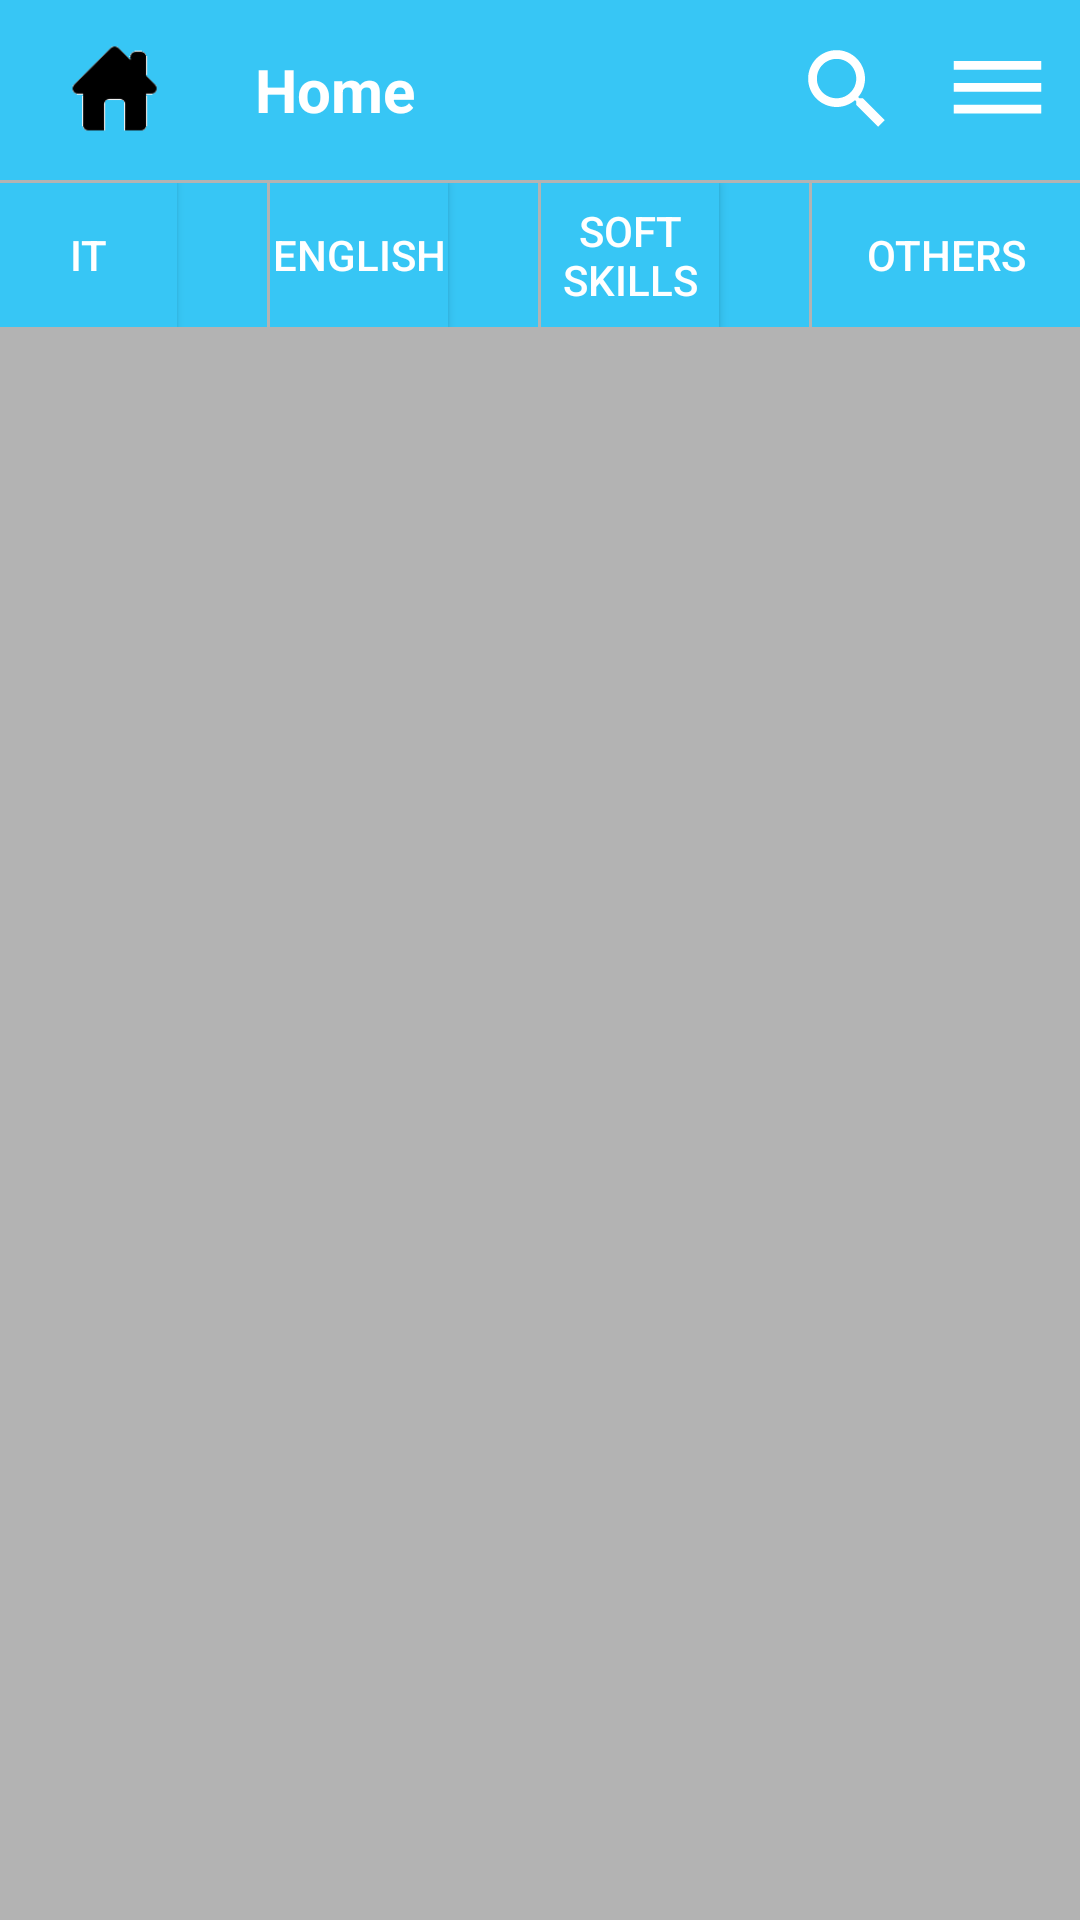

Named icons in this screenshot (1080×1920) and their bounding boxes, (x1, y1, x2, y2):
menu: (953, 61, 1042, 114)
search: (808, 50, 885, 127)
